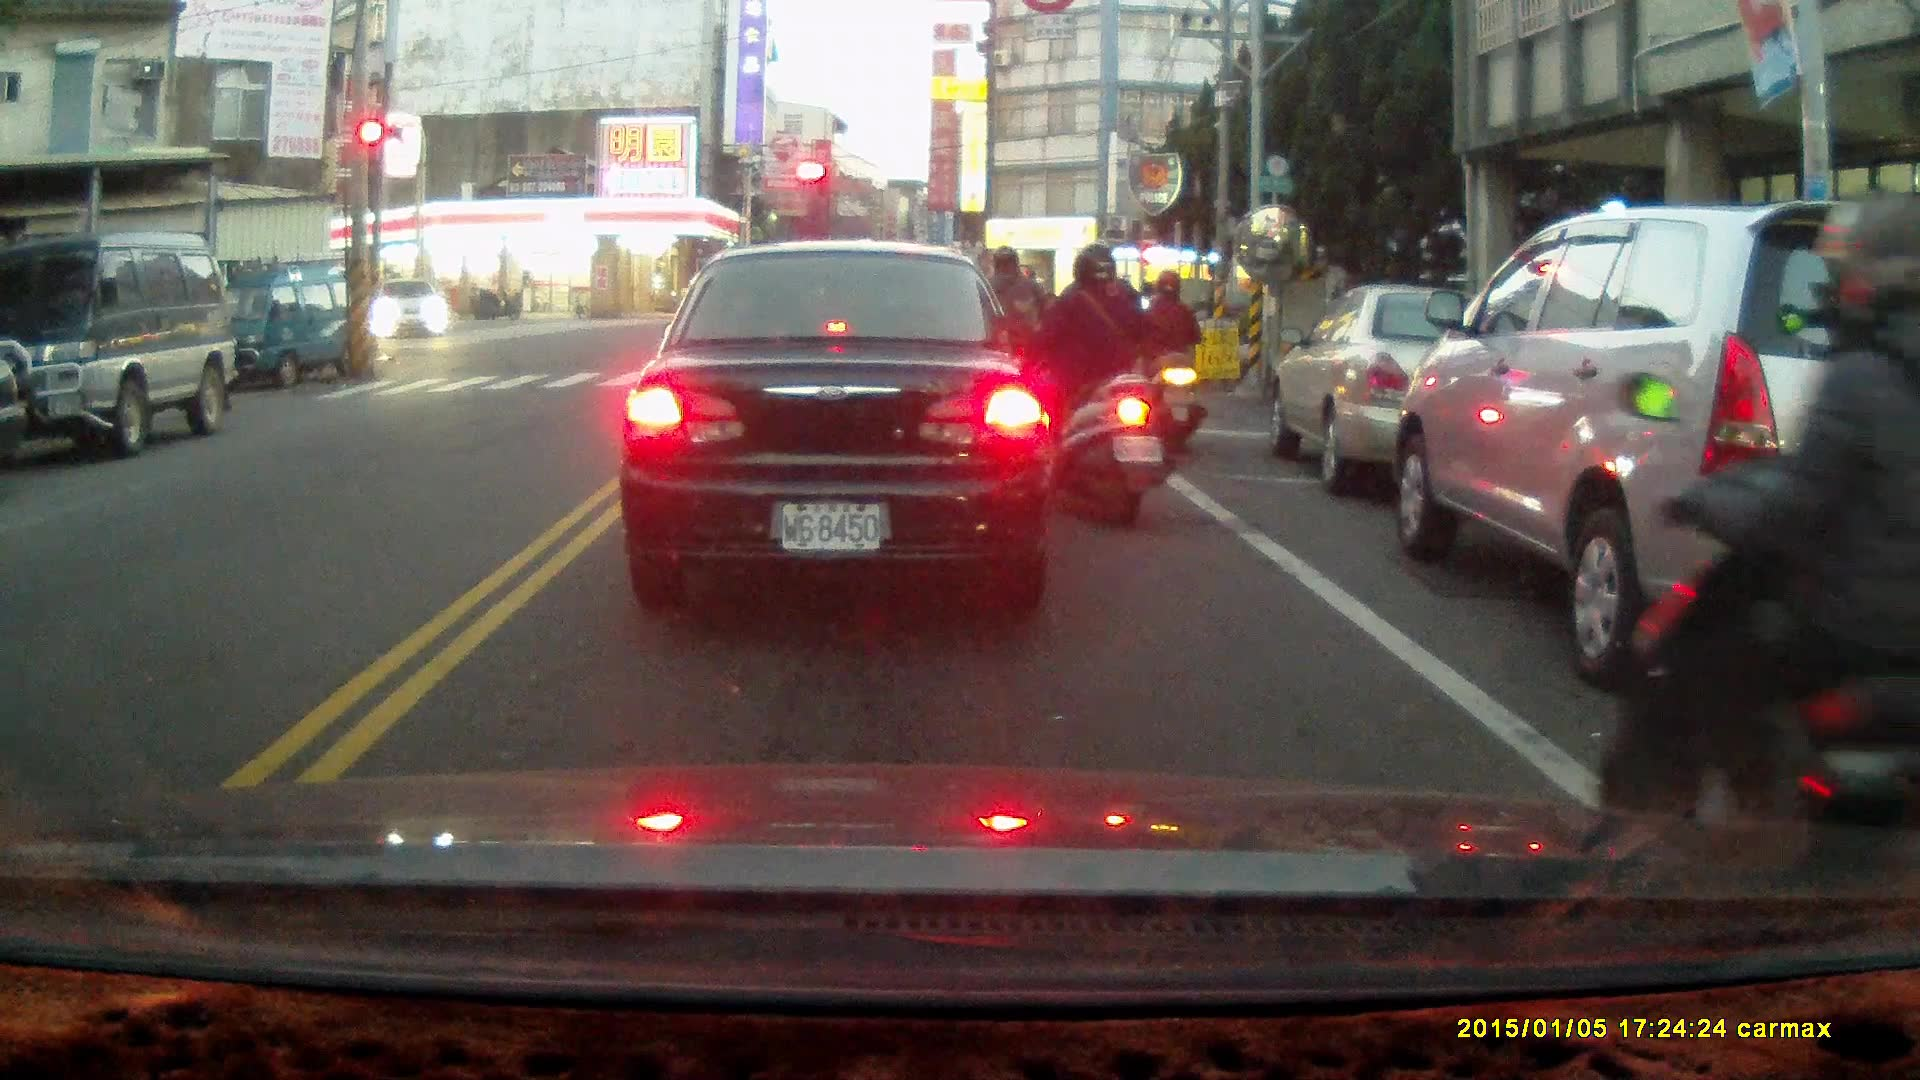rider: (1603, 196, 1920, 912), (1020, 243, 1173, 534), (961, 241, 1054, 440), (1134, 269, 1204, 450), (467, 282, 520, 322)
vehicle: (1377, 195, 1920, 685), (617, 243, 1061, 606), (1, 234, 239, 458), (194, 255, 381, 394), (372, 277, 451, 343)
